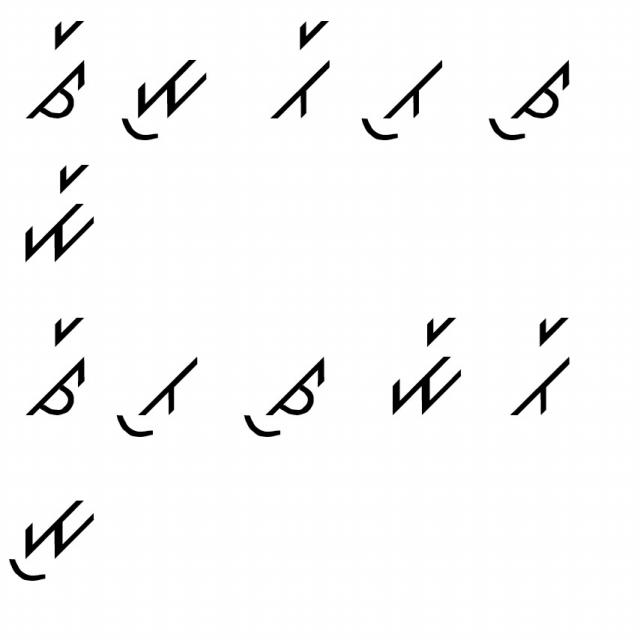bar: (508, 310, 584, 425), (268, 15, 340, 130)
baw: (114, 335, 204, 450), (357, 45, 446, 148)
car: (18, 305, 98, 422), (18, 14, 89, 128)
caw: (237, 342, 331, 453), (481, 48, 578, 148)
mar: (382, 288, 471, 416), (14, 163, 100, 269)
maw: (108, 48, 212, 154), (4, 480, 102, 588)
